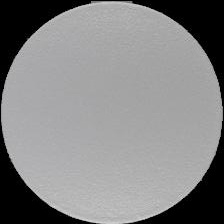68788-6378: (0, 0, 224, 224)
